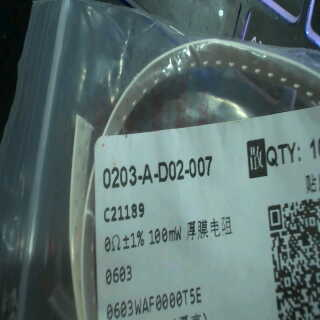0R: (99, 222, 187, 283)
